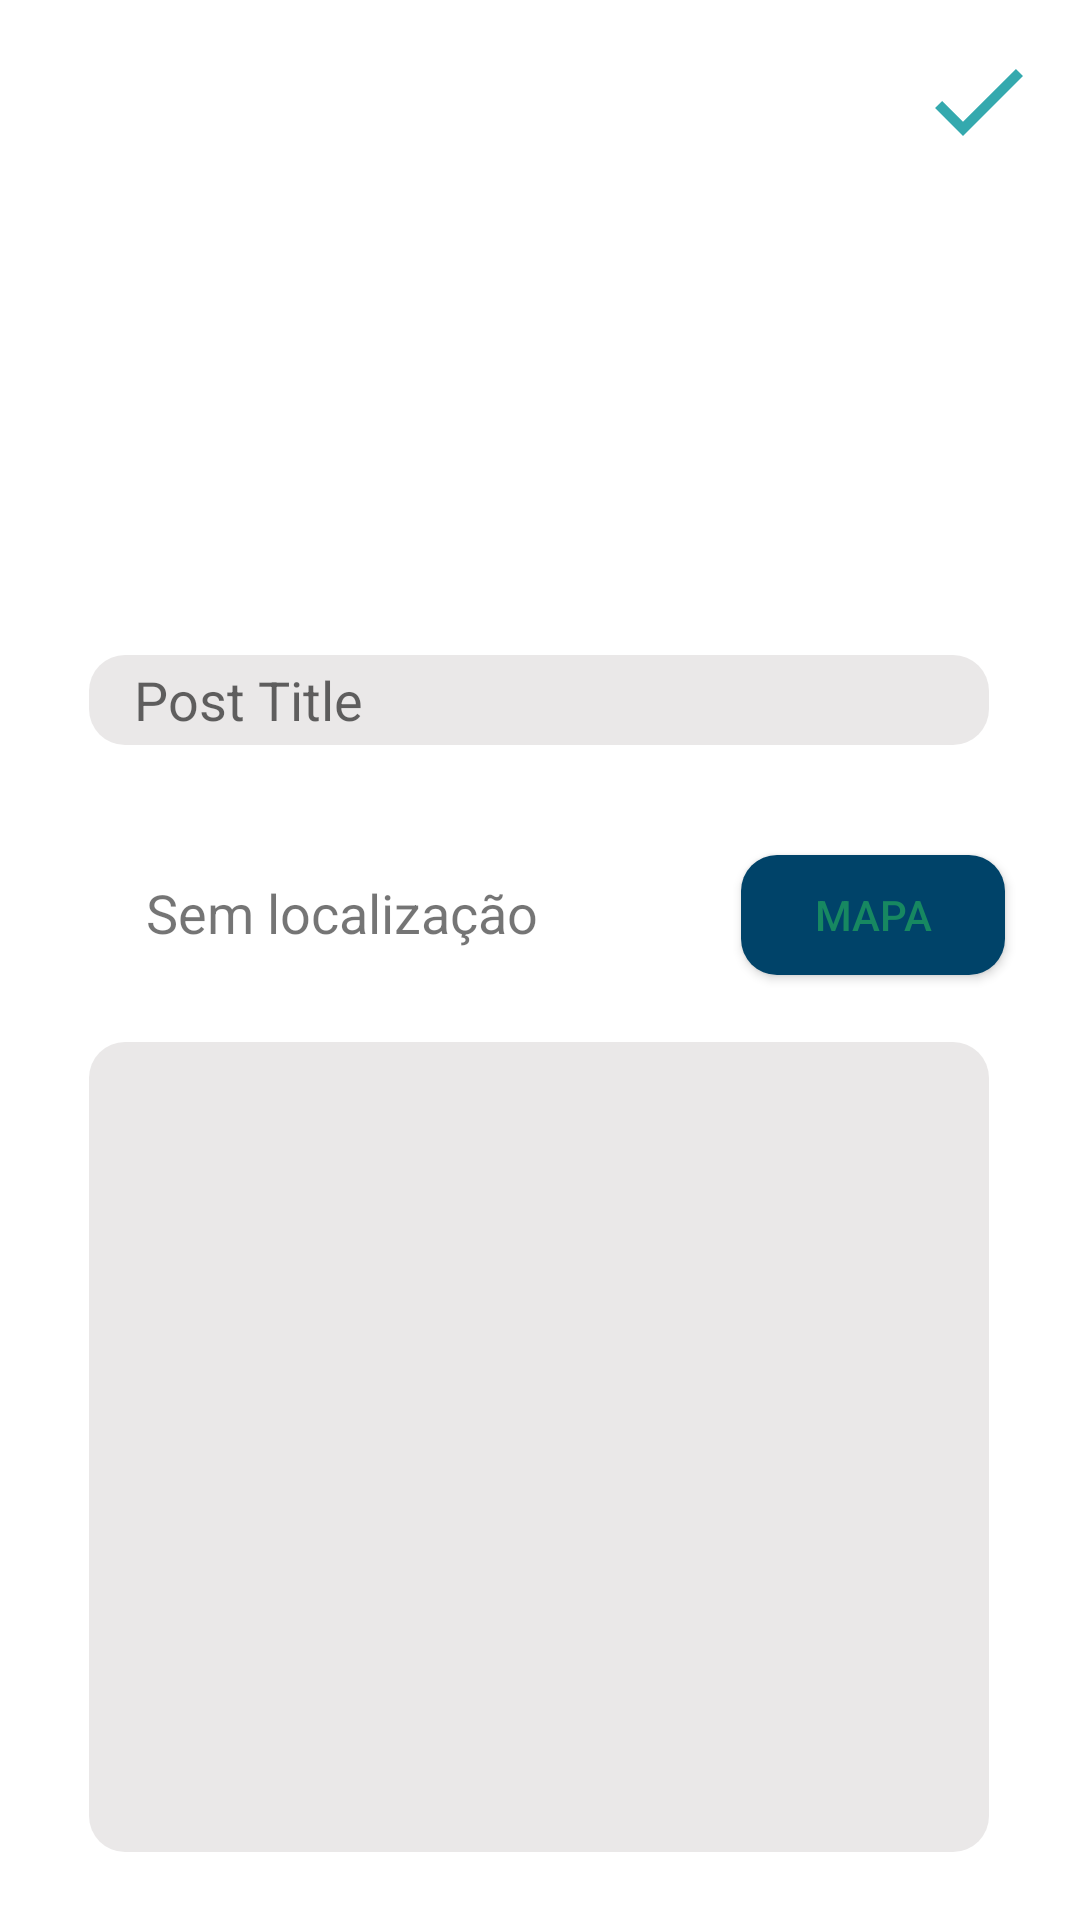

Icon bounding boxes for this 1080 × 1920 phone screenshot, format (x1, y1, x2, y2):
check: (935, 69, 1023, 136)
